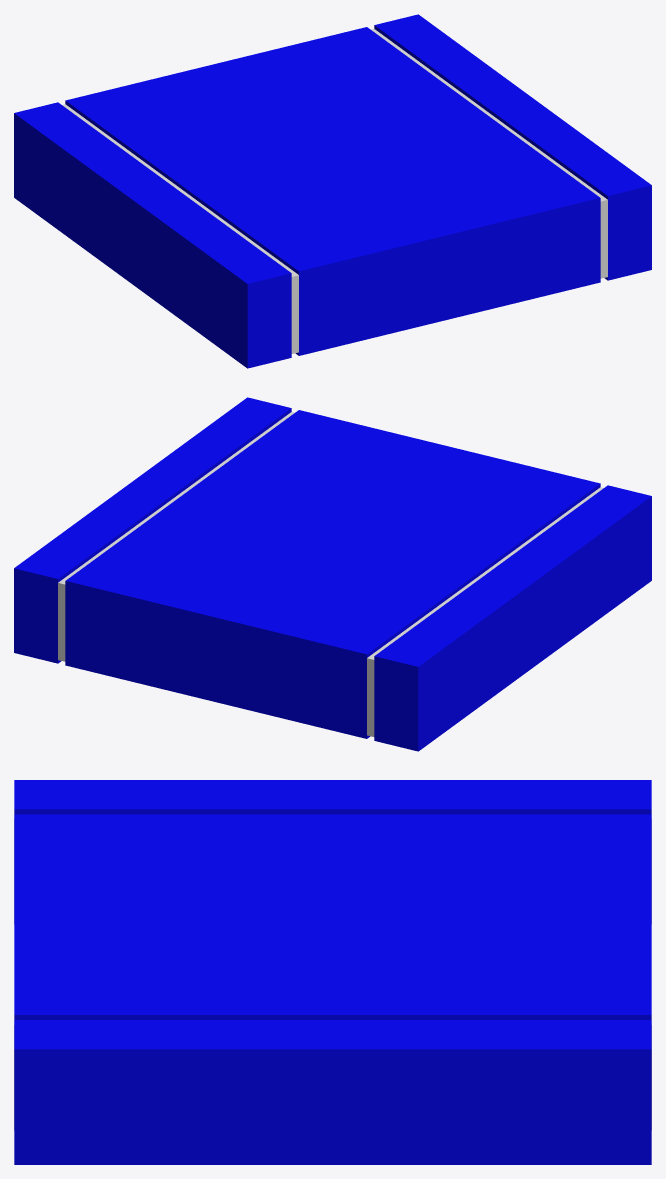
File: Ceiling1x1Merged.fbx
3 renders of one model, top to bottom at view 1: azimuth 30°, elevation 25°; view 2: azimuth 150°, elevation 25°; view 3: azimuth 270°, elevation 25°, orthographic. The views are drawn at different scales.
Visible parts, largest first — view 1: Ceiling1x1_Combined; view 2: Ceiling1x1_Combined; view 3: Ceiling1x1_Combined.
Part boxes in pixels (bbox=[...]): Ceiling1x1_Combined: bbox=[14, 14, 651, 368]; Ceiling1x1_Combined: bbox=[14, 397, 651, 751]; Ceiling1x1_Combined: bbox=[14, 780, 651, 1164].
Size of the model in its own units: 500 by 100 by 500.
